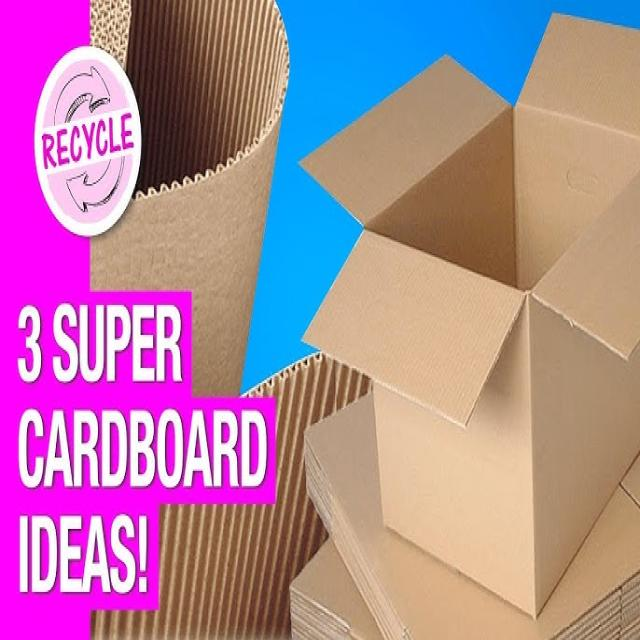cardboard_box: (304, 31, 639, 591)
